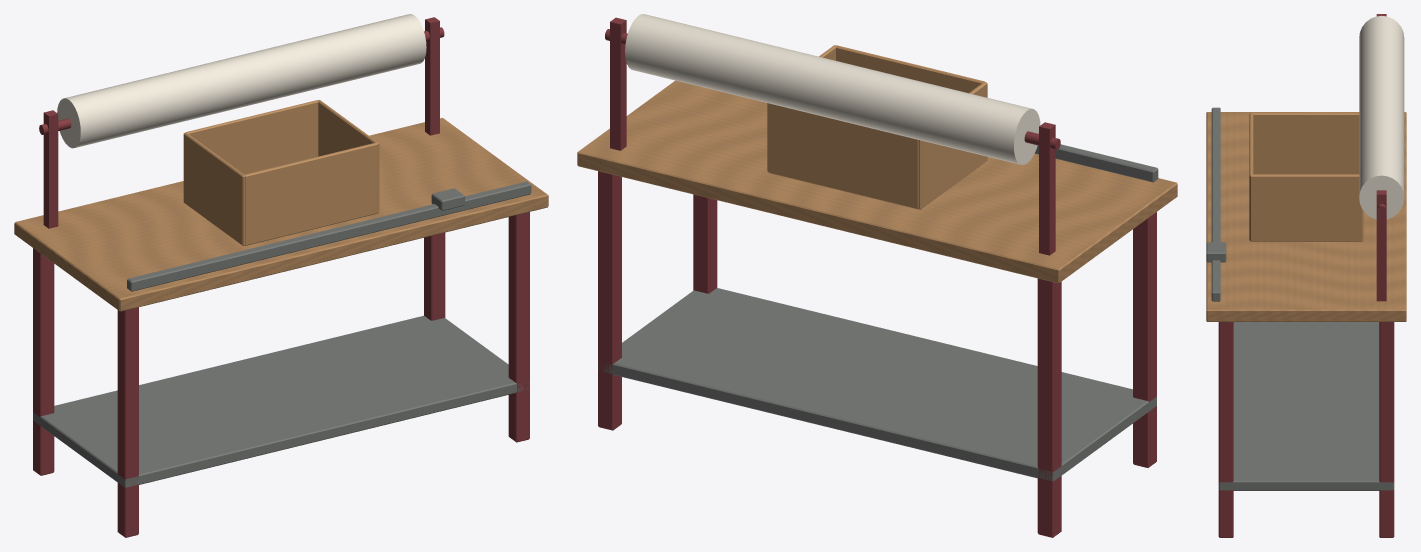
The model's file is s11-packing-station-balanced.glb.
3 views of the same model, side by side, from view 1: azimuth 30°, elevation 25°; view 2: azimuth 150°, elevation 25°; view 3: azimuth 270°, elevation 25° (orthographic). The views are drawn at different scales.
Parts seen in each view (by area): view 1: Wrapping bench, Roll and cutter, Open carton; view 2: Wrapping bench, Roll and cutter, Open carton; view 3: Wrapping bench, Open carton, Roll and cutter.
Part boxes in pixels (x1=…): Wrapping bench: x1=14, y1=118, x2=548, y2=537; Roll and cutter: x1=39, y1=14, x2=531, y2=291; Open carton: x1=183, y1=100, x2=379, y2=245; Wrapping bench: x1=577, y1=80, x2=1177, y2=537; Roll and cutter: x1=605, y1=14, x2=1158, y2=255; Open carton: x1=767, y1=45, x2=987, y2=209; Wrapping bench: x1=1206, y1=112, x2=1406, y2=537; Open carton: x1=1249, y1=112, x2=1363, y2=241; Roll and cutter: x1=1206, y1=14, x2=1404, y2=301.
Bounding box in the file's own units: 2.62 × 2.15 × 1.12.
1 material, 1 textured.
